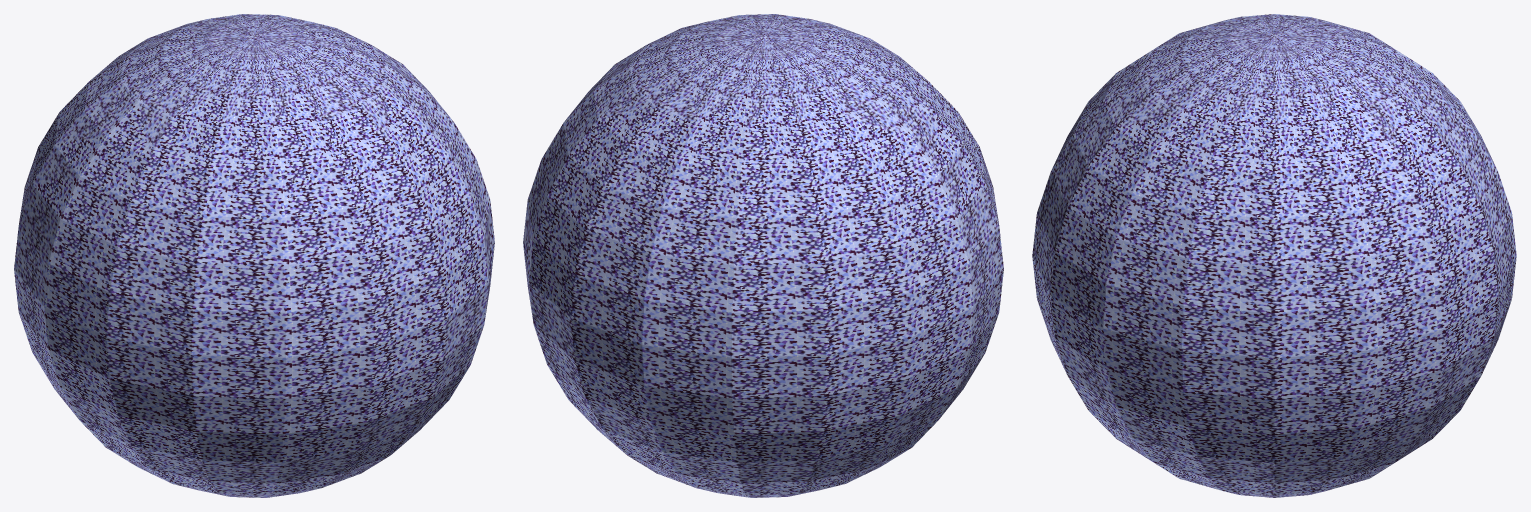
File: starsphere.obj
3 renders of one model, left to right at view 1: azimuth 30°, elevation 25°; view 2: azimuth 150°, elevation 25°; view 3: azimuth 270°, elevation 25°, orthographic.
Parts seen in each view (by area): view 1: StarSphere; view 2: StarSphere; view 3: StarSphere.
Boxes of the visible parts, x1=… form: StarSphere: x1=14, y1=14, x2=494, y2=497; StarSphere: x1=523, y1=14, x2=1003, y2=497; StarSphere: x1=1032, y1=14, x2=1516, y2=497.
Size of the model in its own units: 2 by 2 by 2.
1 material, 1 textured.
